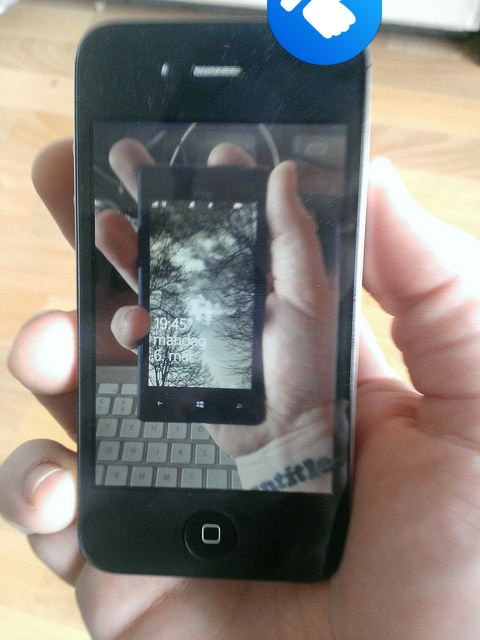like: (267, 0, 382, 65)
